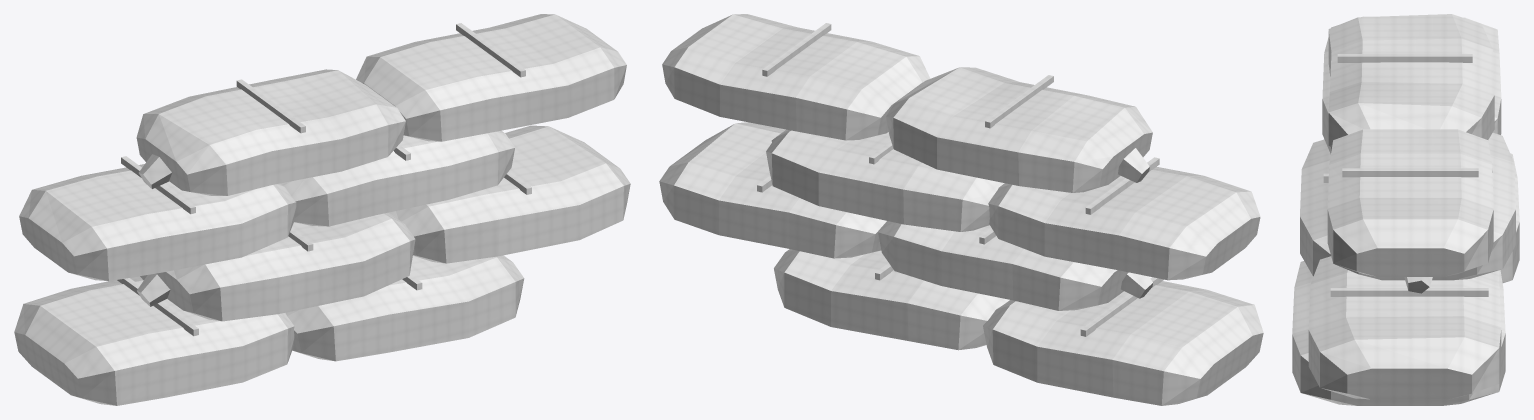
The model's file is sandbags_1.obj.
3 views of the same model, side by side, from view 1: azimuth 30°, elevation 25°; view 2: azimuth 150°, elevation 25°; view 3: azimuth 270°, elevation 25° (orthographic). The views are drawn at different scales.
Parts seen in each view (by area): view 1: sandbags_1; view 2: sandbags_1; view 3: sandbags_1.
Boxes of the visible parts, bbox=[...] form: sandbags_1: bbox=[14, 14, 630, 405]; sandbags_1: bbox=[659, 14, 1263, 405]; sandbags_1: bbox=[1292, 14, 1519, 405].
Size of the model in its own units: 1.26 by 0.5234 by 0.4234.
